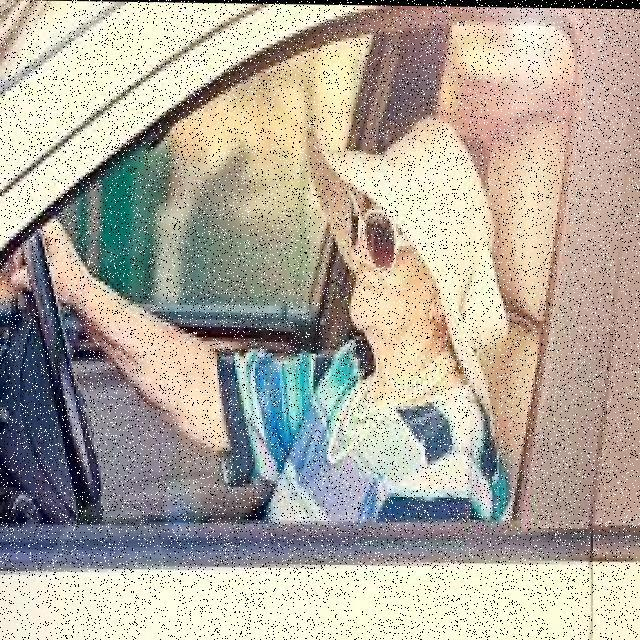noSeatbelt: (244, 311, 520, 538)
